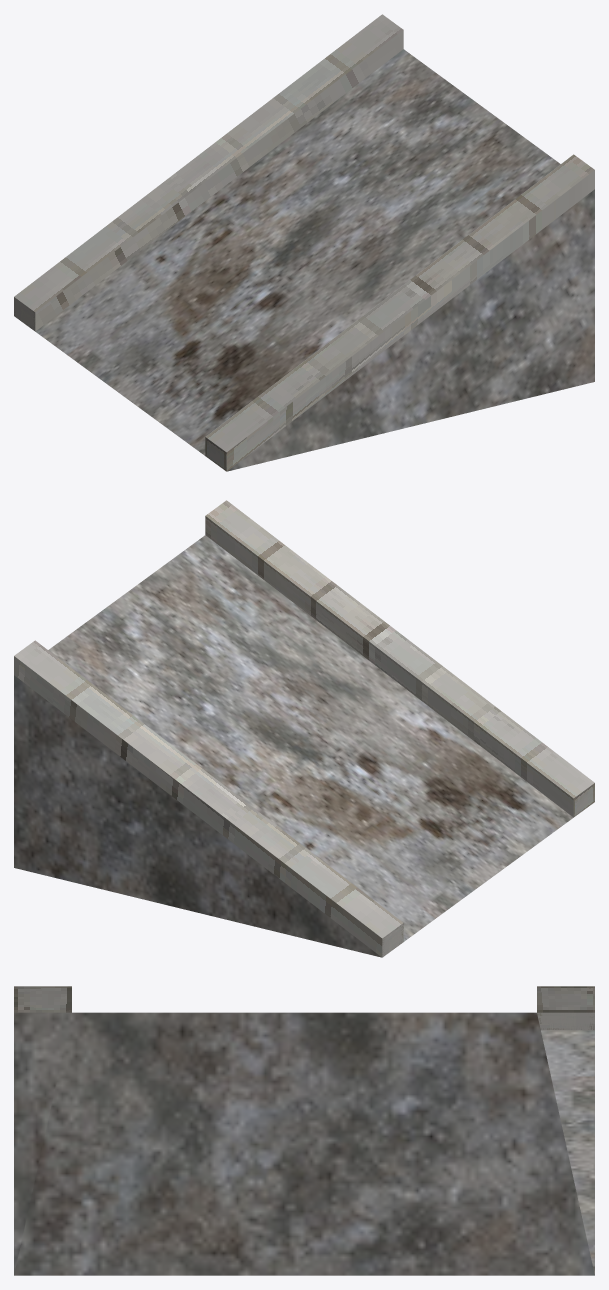
Rendered from 2x1x2 ramp.gltf.
The picture shows the model from 3 angles, top to bottom: view 1: azimuth 30°, elevation 25°; view 2: azimuth 150°, elevation 25°; view 3: azimuth 270°, elevation 25°; orthographic projection. The views are drawn at different scales.
Visible parts, largest first — view 1: stairs; view 2: stairs; view 3: stairs.
Part boxes in pixels (bbox=[...]): stairs: bbox=[14, 14, 594, 471]; stairs: bbox=[14, 500, 594, 957]; stairs: bbox=[14, 986, 594, 1275].
Bounding box in the file's own units: 2 × 1.1 × 2.
Materials: 2 (2 with a texture image).
